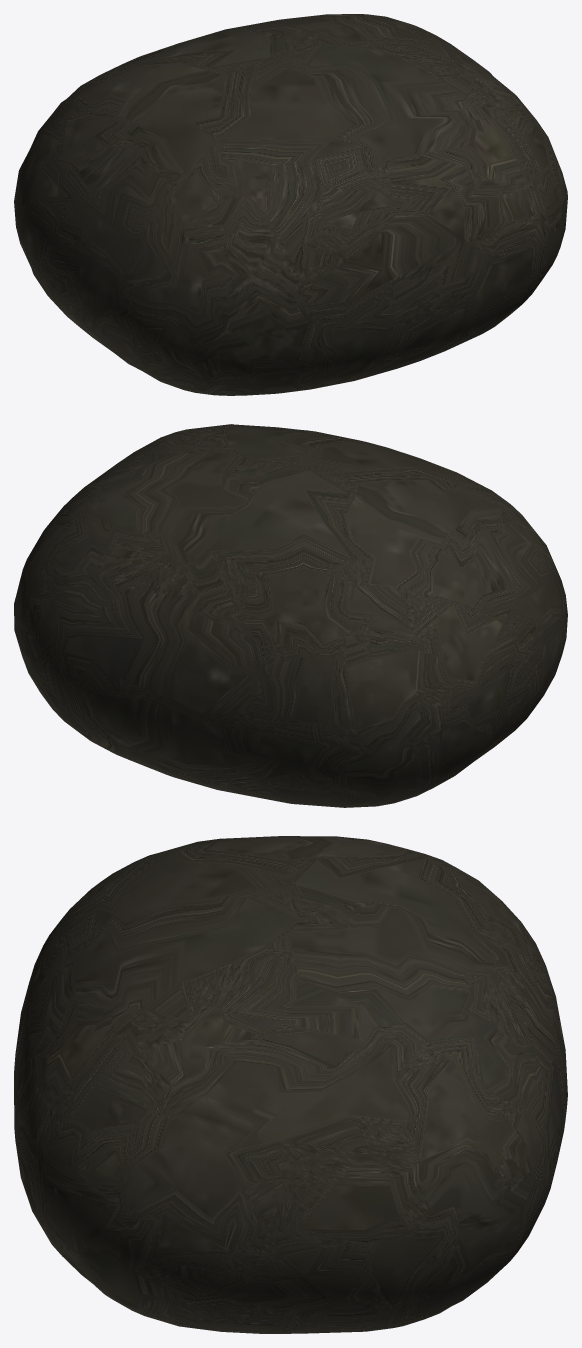
File: cobblestone.glb
The picture shows the model from 3 angles, top to bottom: view 1: azimuth 30°, elevation 25°; view 2: azimuth 150°, elevation 25°; view 3: azimuth 270°, elevation 25°; orthographic projection. The views are drawn at different scales.
Size of the model in its own units: 1.9 by 1.18 by 1.55.
Materials: 1 (1 with a texture image).
